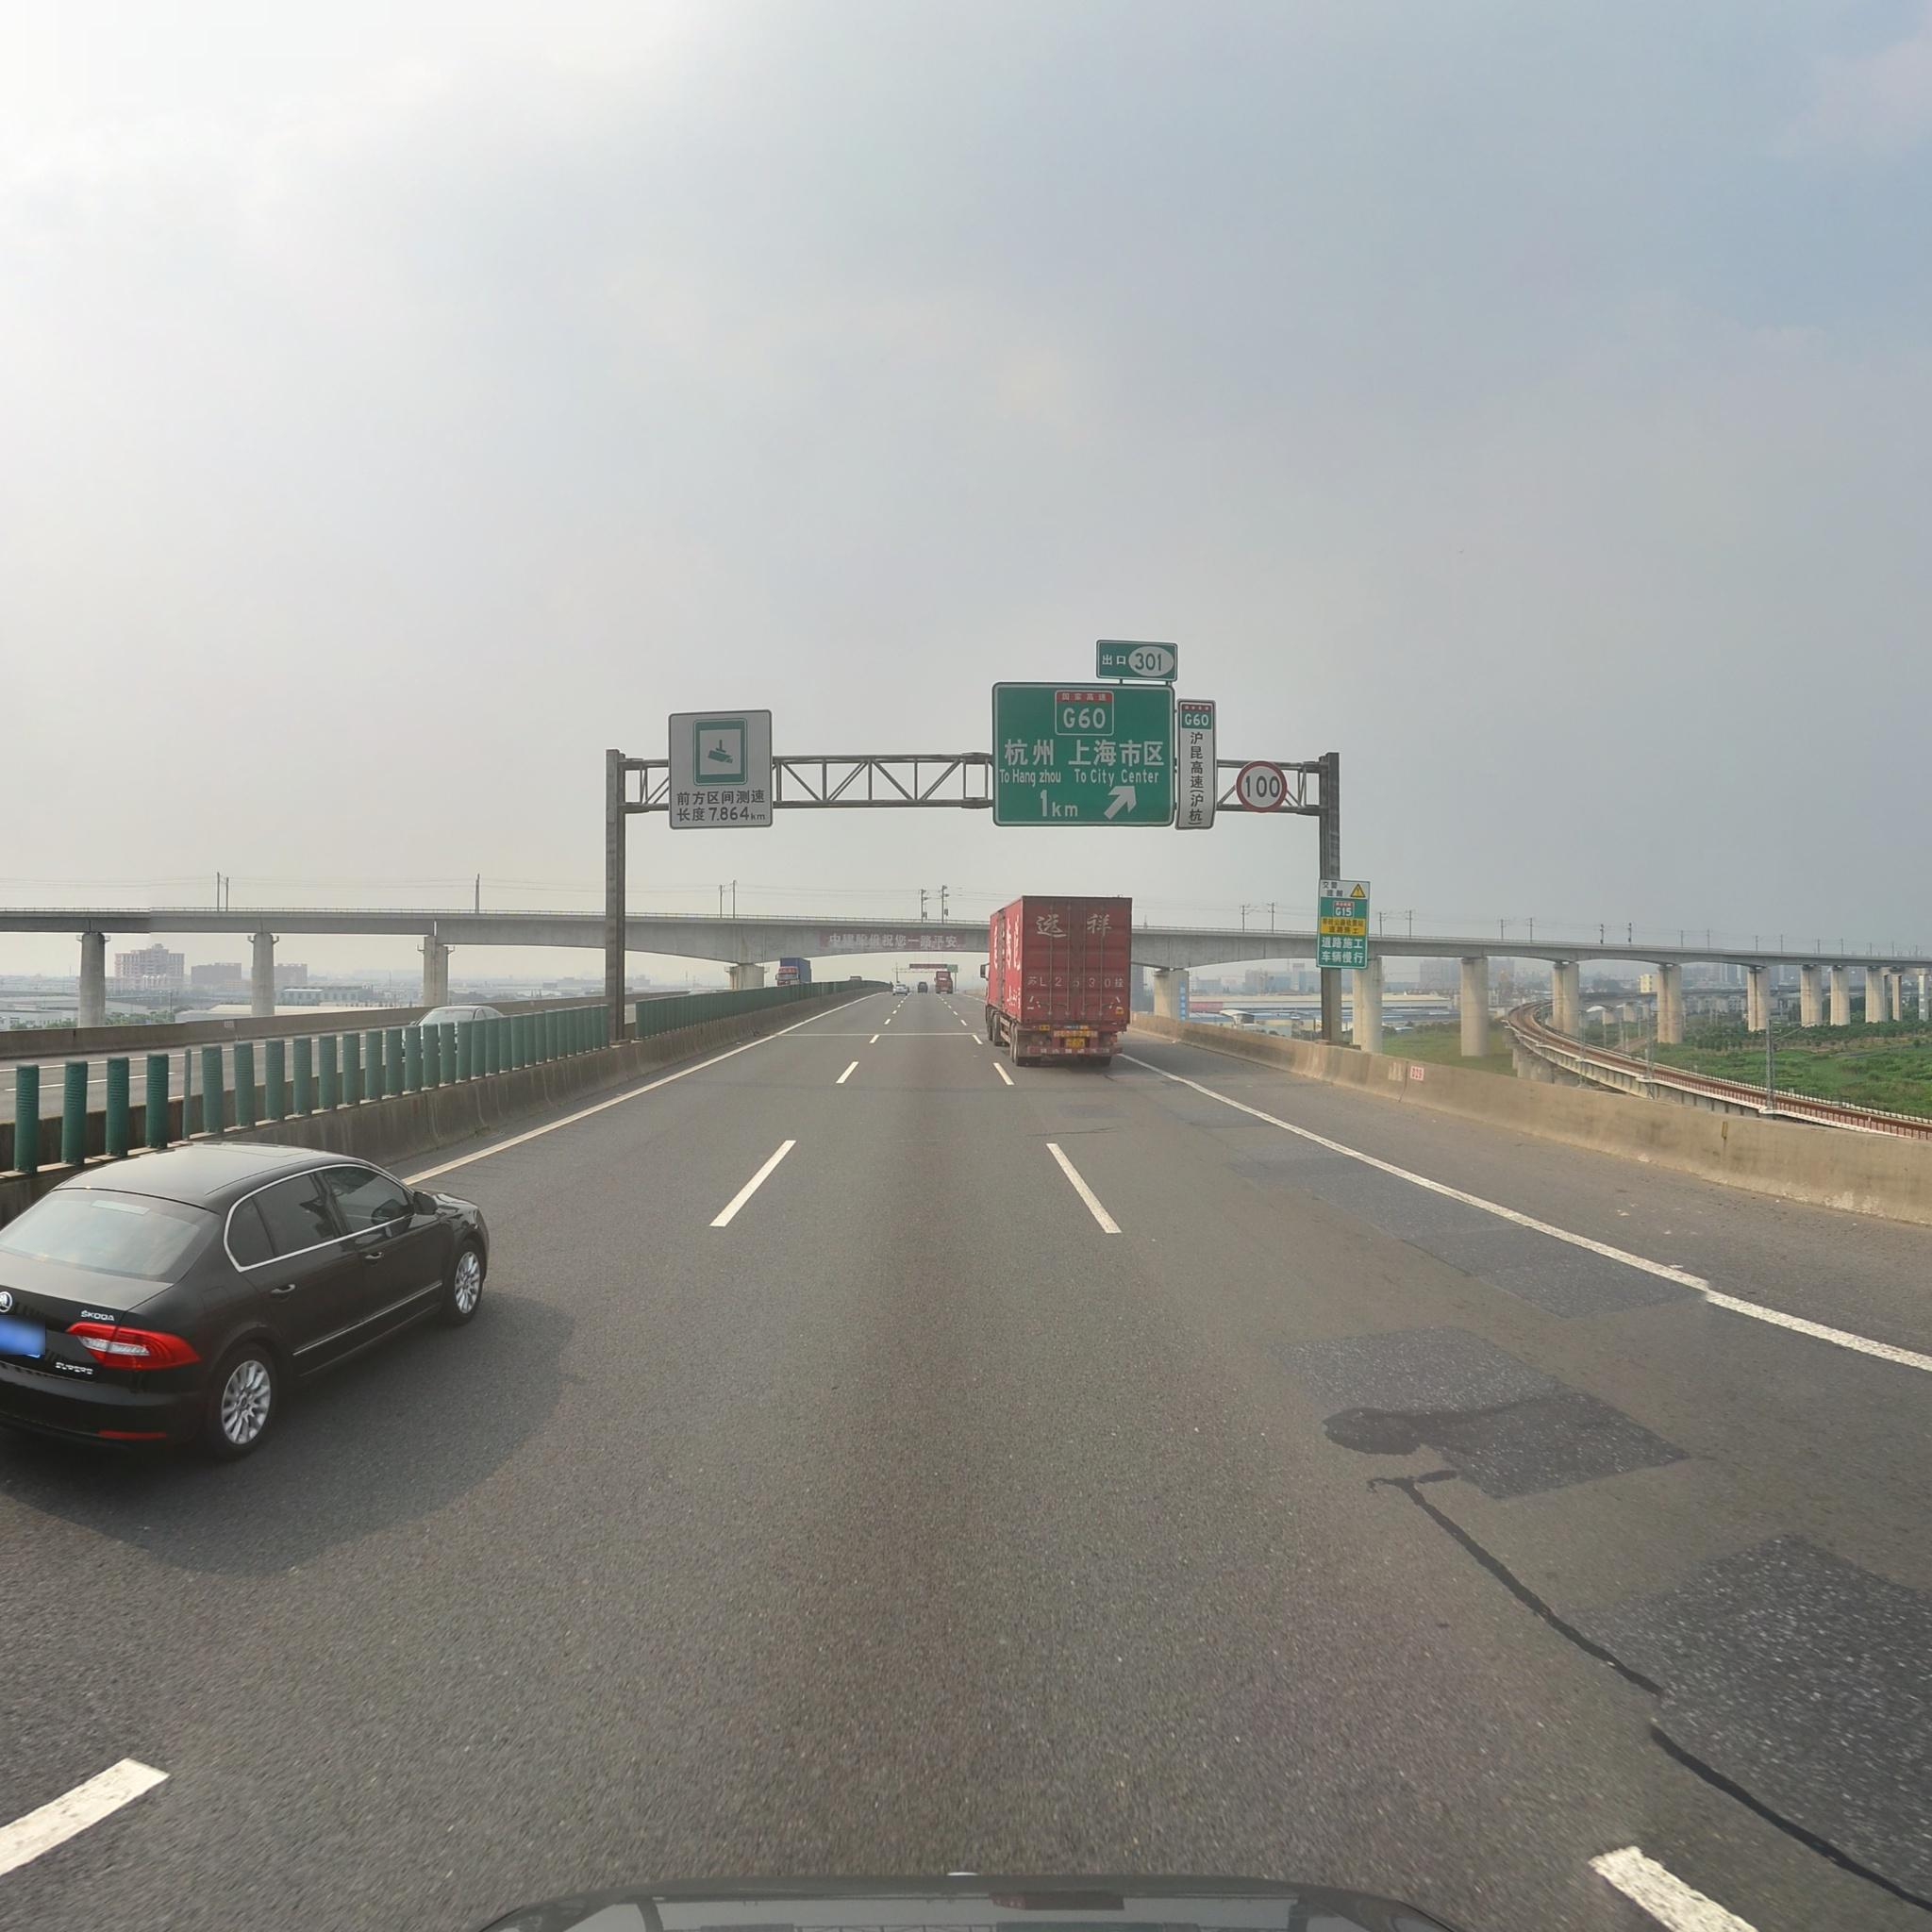pl100: (1238, 761, 1286, 814)
